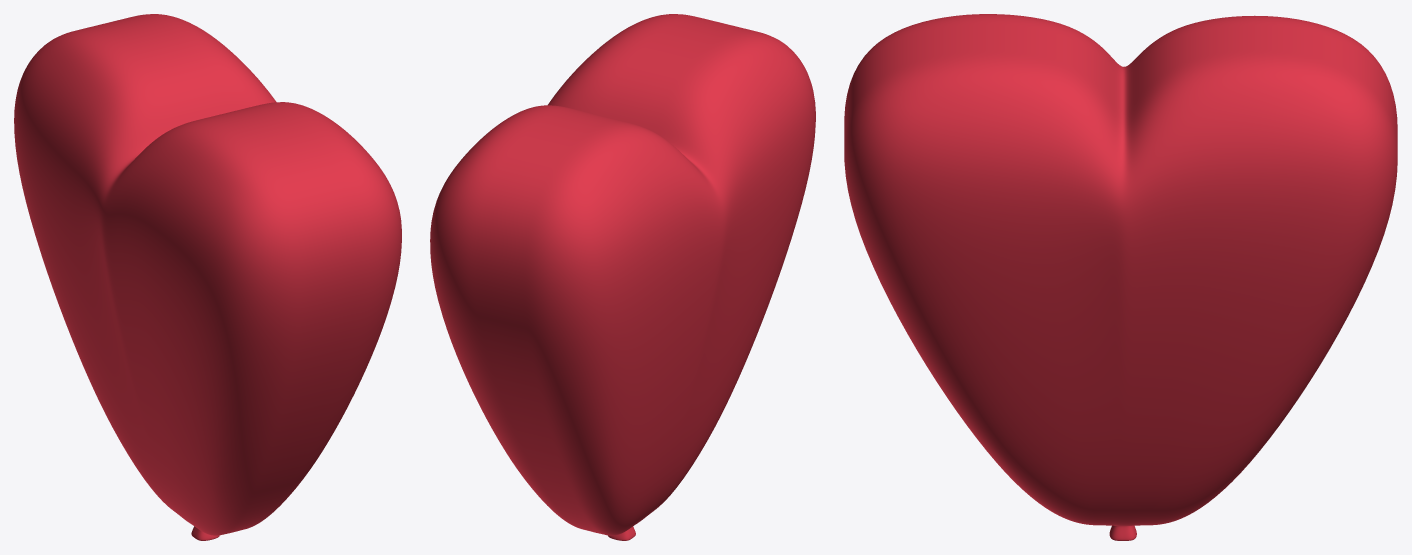
File: Copy of HeartBalloon1.1.fbx
The picture shows the model from 3 angles, left to right: view 1: azimuth 30°, elevation 25°; view 2: azimuth 150°, elevation 25°; view 3: azimuth 270°, elevation 25°; orthographic projection. The views are drawn at different scales.
Parts seen in each view (by area): view 1: HeartBalloon; view 2: HeartBalloon; view 3: HeartBalloon.
Boxes of the visible parts, bbox=[...] form: HeartBalloon: bbox=[14, 14, 401, 540]; HeartBalloon: bbox=[430, 14, 815, 540]; HeartBalloon: bbox=[844, 14, 1397, 540].
Bounding box in the file's own units: 43.03 × 89.46 × 90.32.
